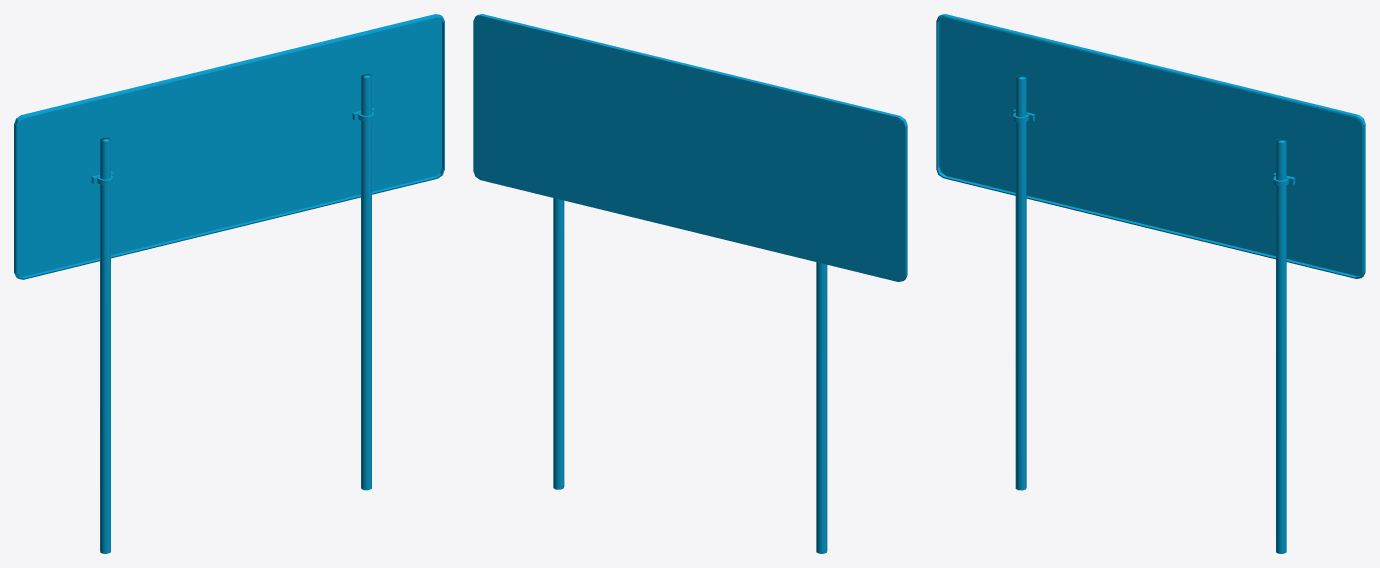
The model's file is Road_Sign_Base_12_Lod0.fbx.
The picture shows the model from 3 angles, left to right: view 1: azimuth 30°, elevation 25°; view 2: azimuth 150°, elevation 25°; view 3: azimuth 330°, elevation 25°; orthographic projection.
Parts seen in each view (by area): view 1: Road_Sign_Base_12_Lod0; view 2: Road_Sign_Base_12_Lod0; view 3: Road_Sign_Base_12_Lod0.
Part boxes in pixels (box(x1,y1,x2,y2)): Road_Sign_Base_12_Lod0: box(14, 14, 444, 553); Road_Sign_Base_12_Lod0: box(473, 14, 907, 553); Road_Sign_Base_12_Lod0: box(936, 14, 1365, 553).
Bounding box in the file's own units: 147 × 149 × 4.99.
